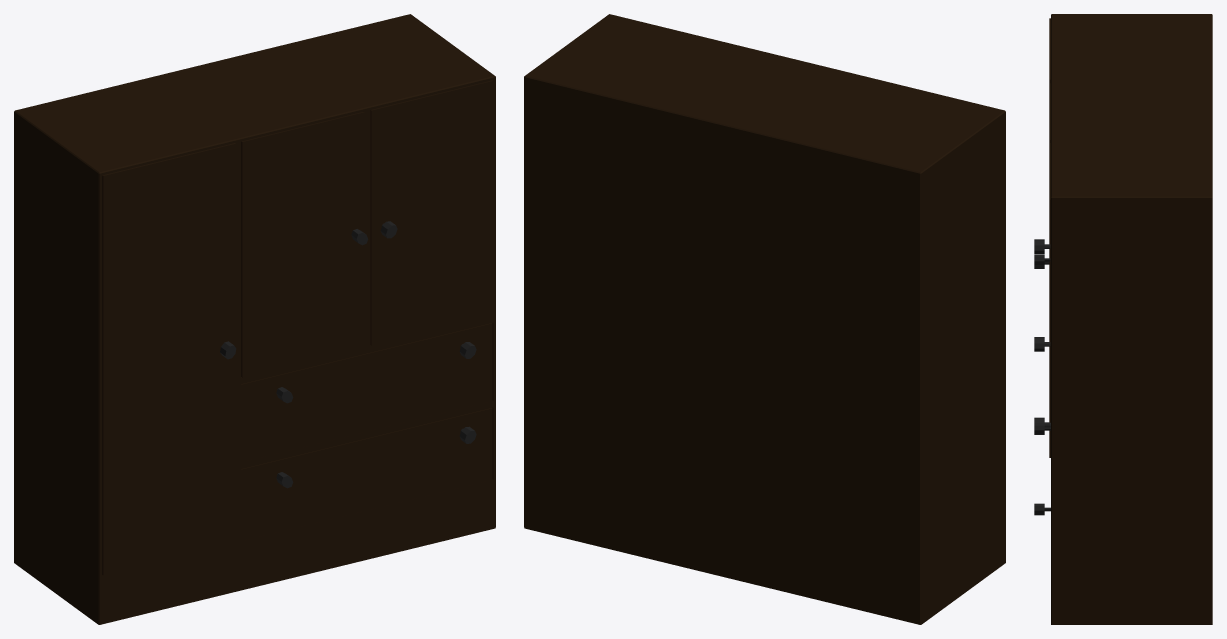
The model's file is MediumWardrobe1.obj.
3 views of the same model, side by side, from view 1: azimuth 30°, elevation 25°; view 2: azimuth 150°, elevation 25°; view 3: azimuth 270°, elevation 25° (orthographic). The views are drawn at different scales.
Visible parts, largest first — view 1: MediumWardrobe1_Cube.001, ClosetDoorRight2_MediumWardrobe1_Cube.002, ClosetDoorRight1_MediumWardrobe1_Cube.013, ClosetDoorLeft1_MediumWardrobe1_Cube.003, Drawer1_MediumWardrobe1_Cube.015, Drawer2_MediumWardrobe1_Cube.004; view 2: MediumWardrobe1_Cube.001; view 3: MediumWardrobe1_Cube.001, ClosetDoorRight2_MediumWardrobe1_Cube.002, ClosetDoorLeft1_MediumWardrobe1_Cube.003, Drawer1_MediumWardrobe1_Cube.015, Drawer2_MediumWardrobe1_Cube.004.
Boxes of the visible parts, x1,y1,x2,y2 form: MediumWardrobe1_Cube.001: [14, 14, 495, 624]; ClosetDoorRight2_MediumWardrobe1_Cube.002: [102, 143, 236, 575]; ClosetDoorRight1_MediumWardrobe1_Cube.013: [241, 112, 368, 377]; ClosetDoorLeft1_MediumWardrobe1_Cube.003: [370, 80, 493, 346]; Drawer1_MediumWardrobe1_Cube.015: [241, 323, 492, 462]; Drawer2_MediumWardrobe1_Cube.004: [241, 408, 492, 540]; MediumWardrobe1_Cube.001: [524, 14, 1005, 624]; MediumWardrobe1_Cube.001: [1051, 14, 1212, 624]; ClosetDoorRight2_MediumWardrobe1_Cube.002: [1034, 18, 1050, 457]; ClosetDoorLeft1_MediumWardrobe1_Cube.003: [1034, 143, 1050, 422]; Drawer1_MediumWardrobe1_Cube.015: [1034, 337, 1050, 434]; Drawer2_MediumWardrobe1_Cube.004: [1034, 417, 1050, 515].
Bounding box in the file's own units: 2.04 × 2.22 × 0.8393.
